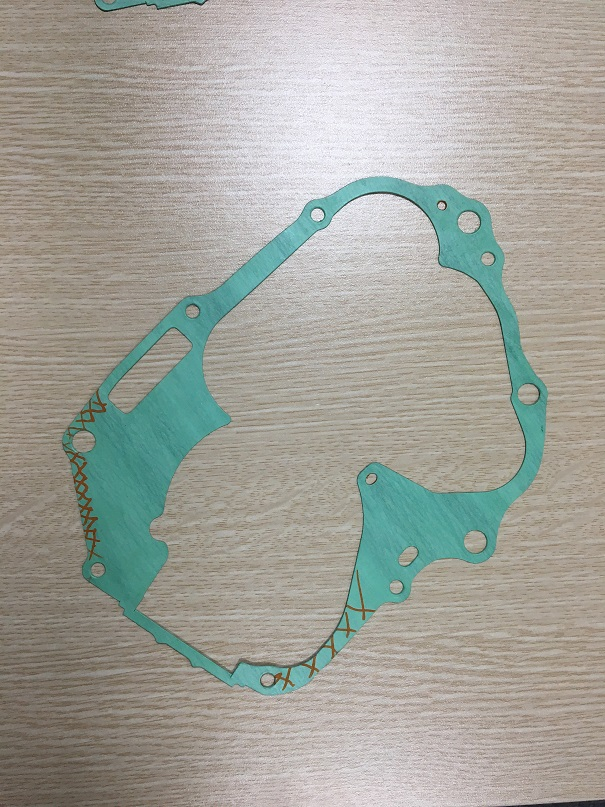type3: (56, 161, 560, 713)
